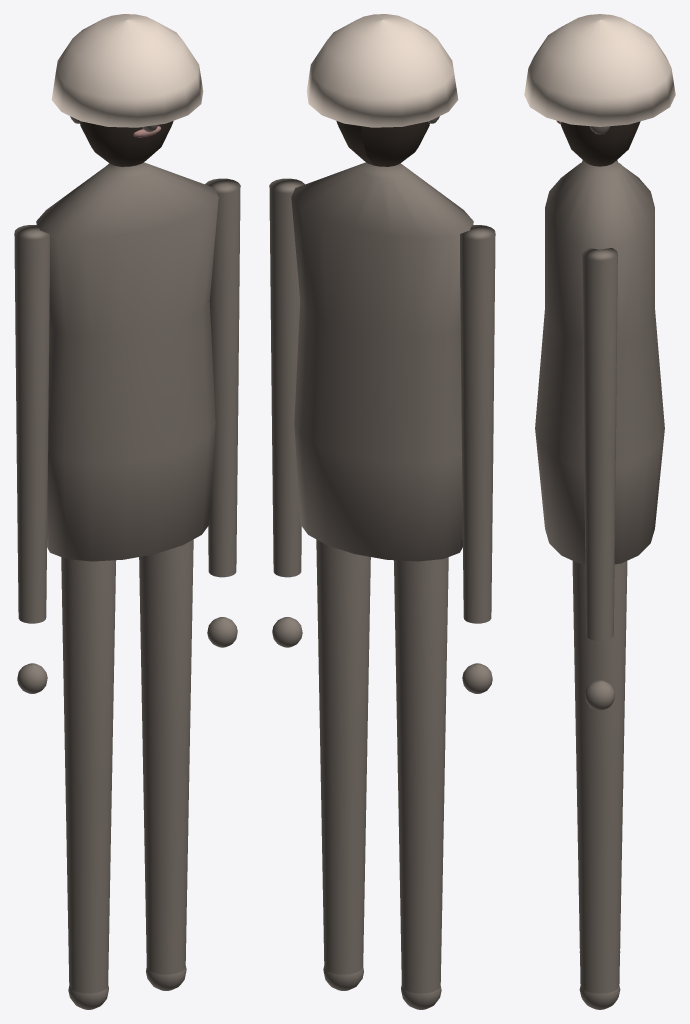
Rendered from avatar_mesh.glb.
The picture shows the model from 3 angles, left to right: view 1: azimuth 30°, elevation 25°; view 2: azimuth 150°, elevation 25°; view 3: azimuth 270°, elevation 25°; orthographic projection.
Parts seen in each view (by area): view 1: avatar; view 2: avatar; view 3: avatar.
Part boxes in pixels (x1,y1,x2,y2): avatar: [14, 14, 240, 1009]; avatar: [269, 14, 495, 1009]; avatar: [524, 14, 675, 1009].
Size of the model in its own units: 0.4069 by 1.72 by 0.2433.
Materials: 6 (1 with a texture image).
